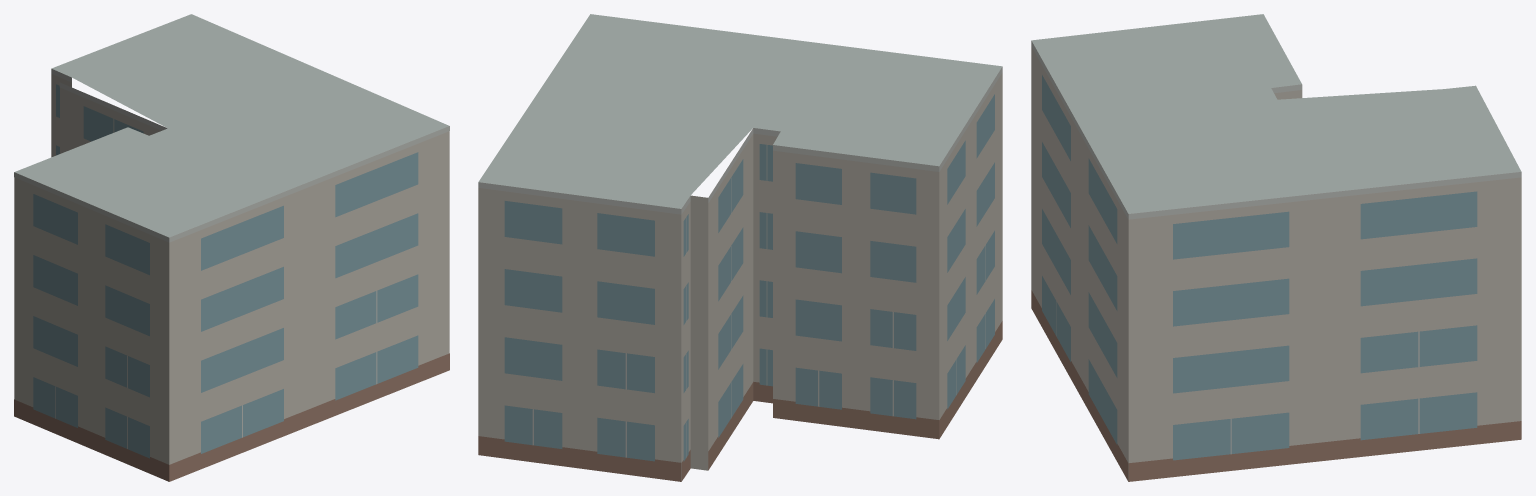
The model's file is survey-upis-33024149.glb.
3 renders of one model, left to right at view 1: azimuth 30°, elevation 25°; view 2: azimuth 150°, elevation 25°; view 3: azimuth 270°, elevation 25°, orthographic. The views are drawn at different scales.
Parts seen in each view (by area): view 1: survey-upis-33024149.tmp; view 2: survey-upis-33024149.tmp; view 3: survey-upis-33024149.tmp.
Part boxes in pixels (bbox=[...]): survey-upis-33024149.tmp: bbox=[14, 14, 449, 481]; survey-upis-33024149.tmp: bbox=[478, 14, 1002, 481]; survey-upis-33024149.tmp: bbox=[1031, 14, 1521, 481].
Size of the model in its own units: 18.75 by 11.7 by 19.42.
